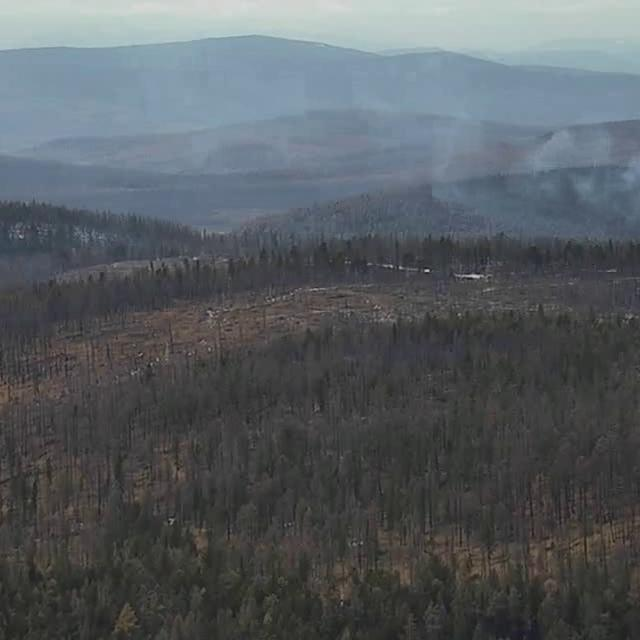Smoke: (0, 53, 639, 277)
